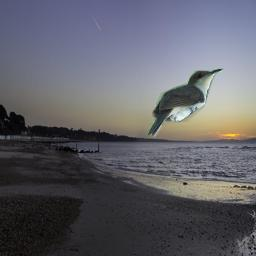Cuckoo: (146, 68, 224, 138)
